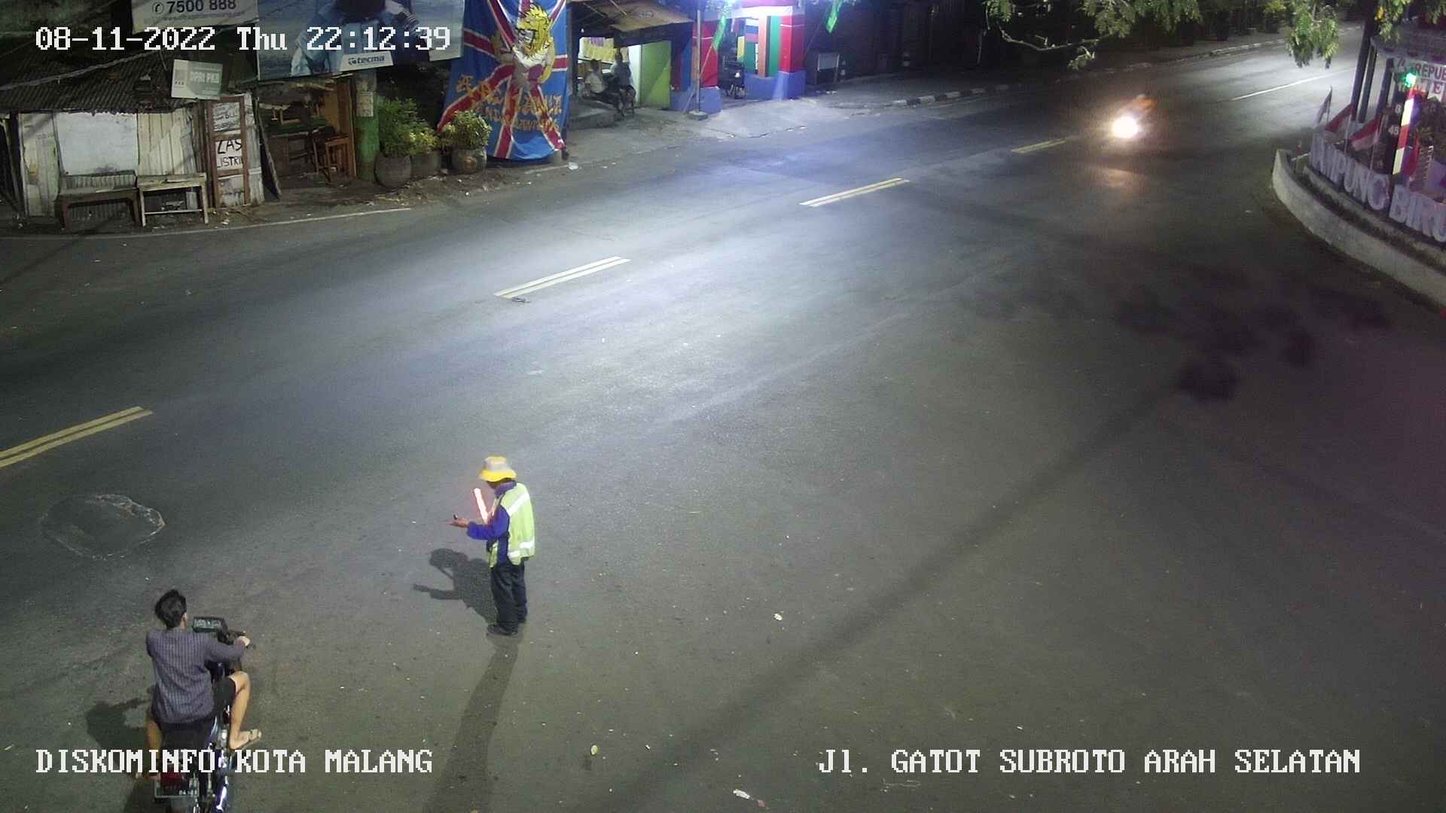without_helmet: (129, 584, 273, 813)
